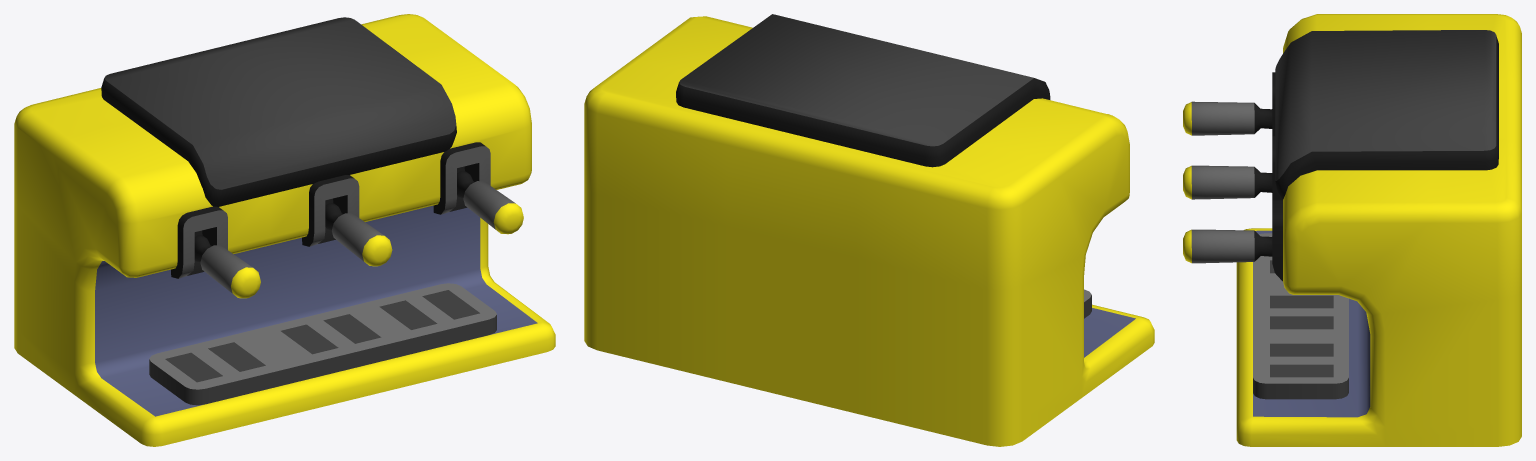
The model's file is Coffe_Mechine.fbx.
The picture shows the model from 3 angles, left to right: view 1: azimuth 30°, elevation 25°; view 2: azimuth 150°, elevation 25°; view 3: azimuth 270°, elevation 25°; orthographic projection. The views are drawn at different scales.
Visible parts, largest first — view 1: Coffe_Mechine; view 2: Coffe_Mechine; view 3: Coffe_Mechine.
Boxes of the visible parts, <box> form: Coffe_Mechine: <box>14,14,555,446</box>; Coffe_Mechine: <box>584,14,1154,446</box>; Coffe_Mechine: <box>1183,14,1521,446</box>.
Bounding box in the file's own units: 7.24 × 4.32 × 5.17.
